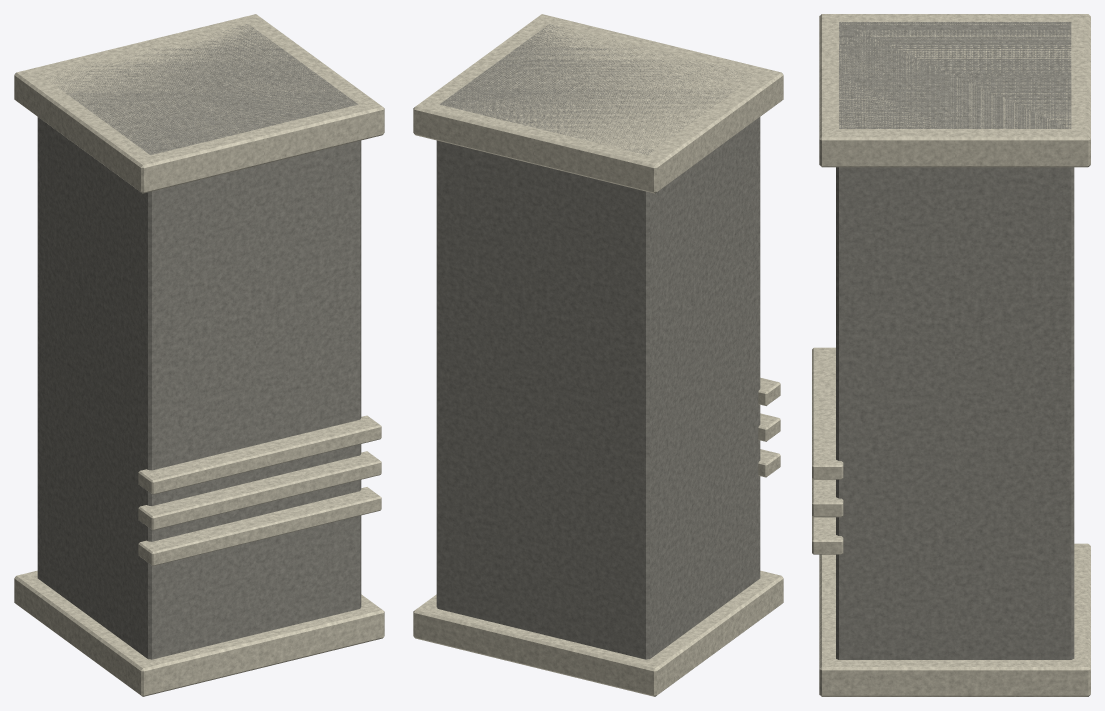
File: TUNN31RC_lod1.glb
3 views of the same model, side by side, from view 1: azimuth 30°, elevation 25°; view 2: azimuth 150°, elevation 25°; view 3: azimuth 270°, elevation 25° (orthographic). The views are drawn at different scales.
Visible parts, largest first — view 1: TUNN31RC_LOD1; view 2: TUNN31RC_LOD1; view 3: TUNN31RC_LOD1.
Part boxes in pixels (left/top/right/bottom): TUNN31RC_LOD1: left=14, top=14, right=384, bottom=696; TUNN31RC_LOD1: left=413, top=14, right=783, bottom=696; TUNN31RC_LOD1: left=812, top=14, right=1090, bottom=696.
Size of the model in its own units: 1.43 by 3 by 1.34.
Materials: 2 (2 with a texture image).
